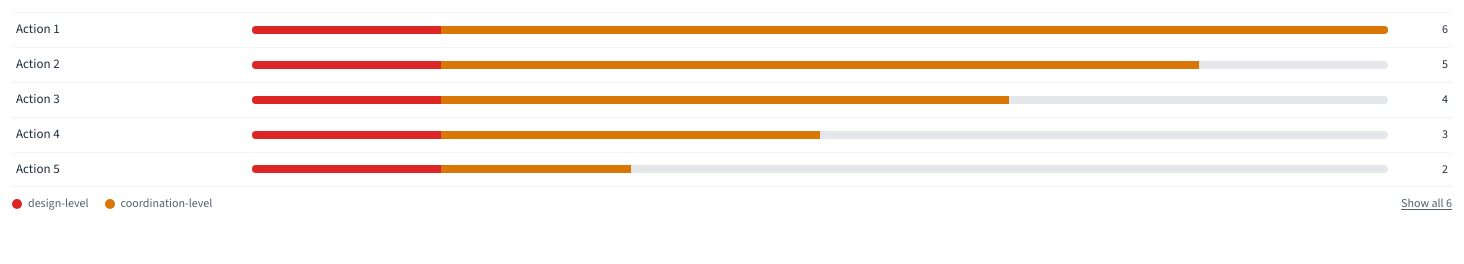
it: ClimateStrainChart › show all reveals every flagged action and show fewer folds them back
Click the button "Show all 6".
click(1426, 204)  # box [1401, 195, 1452, 213]
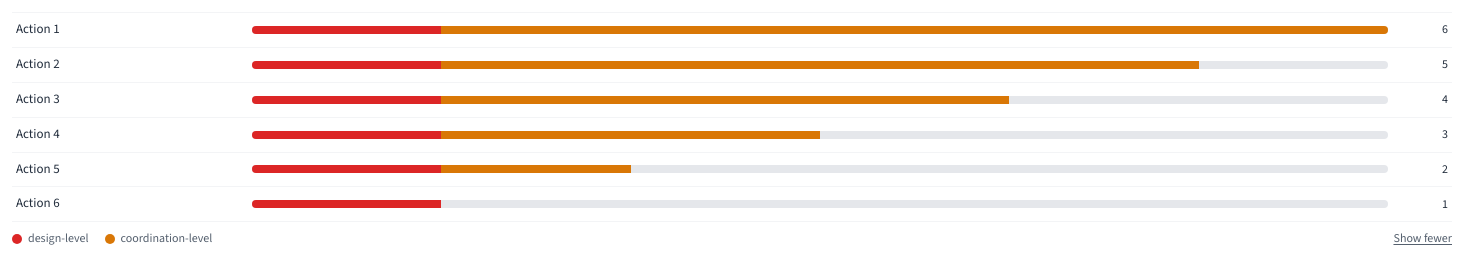
Expected: the number of list items is 6, [12, 12, 1452, 47]; [12, 47, 1452, 82]; [12, 82, 1452, 117]; [12, 117, 1452, 152]; [12, 152, 1452, 186]; [12, 186, 1452, 221]
Click the button "Show fewer".
click(1423, 239)  # box [1394, 230, 1452, 248]
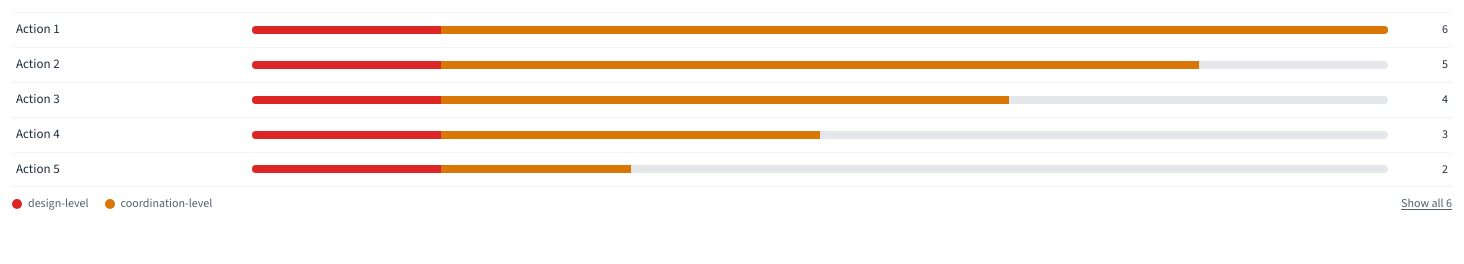
Expected: the number of list items is 5, [12, 12, 1452, 47]; [12, 47, 1452, 82]; [12, 82, 1452, 117]; [12, 117, 1452, 152]; [12, 152, 1452, 186]
